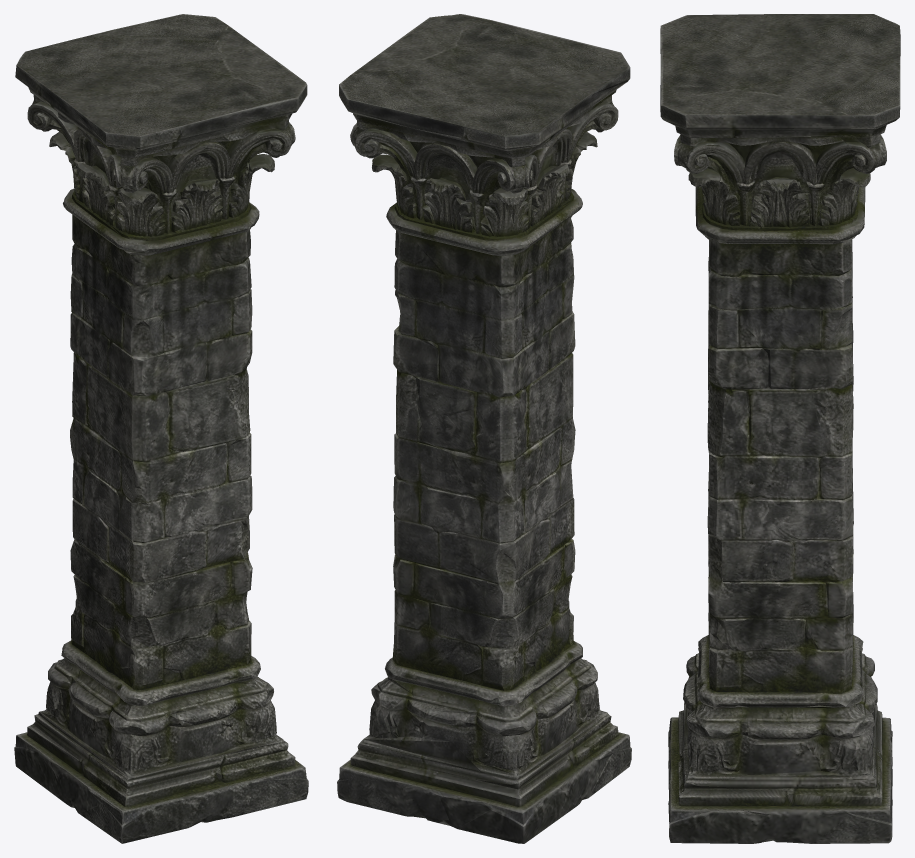
File: pillar.glb
The picture shows the model from 3 angles, left to right: view 1: azimuth 30°, elevation 25°; view 2: azimuth 150°, elevation 25°; view 3: azimuth 270°, elevation 25°; orthographic projection. The views are drawn at different scales.
Visible parts, largest first — view 1: Mesh_0; view 2: Mesh_0; view 3: Mesh_0.
Boxes of the visible parts, bbox=[...] form: Mesh_0: bbox=[14, 14, 308, 843]; Mesh_0: bbox=[337, 14, 631, 843]; Mesh_0: bbox=[660, 14, 900, 843].
Size of the model in its own units: 0.5645 by 1.9 by 0.565.
1 material, 1 textured.
